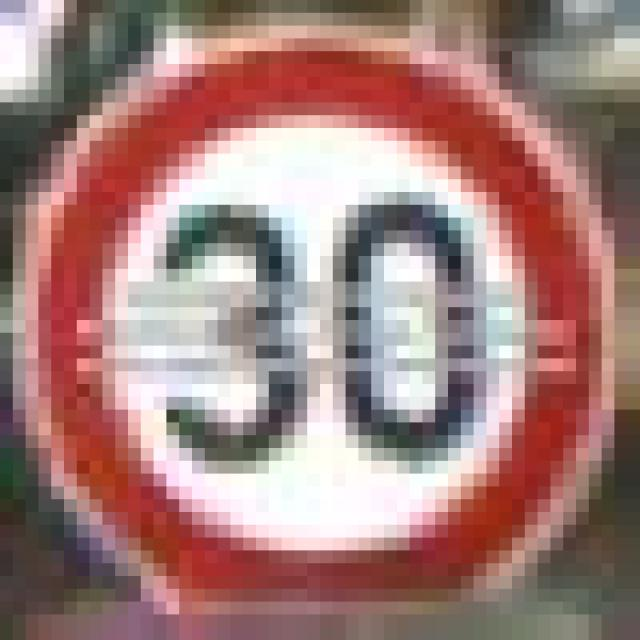SPEED_LIMIT_30: (0, 13, 602, 627)
